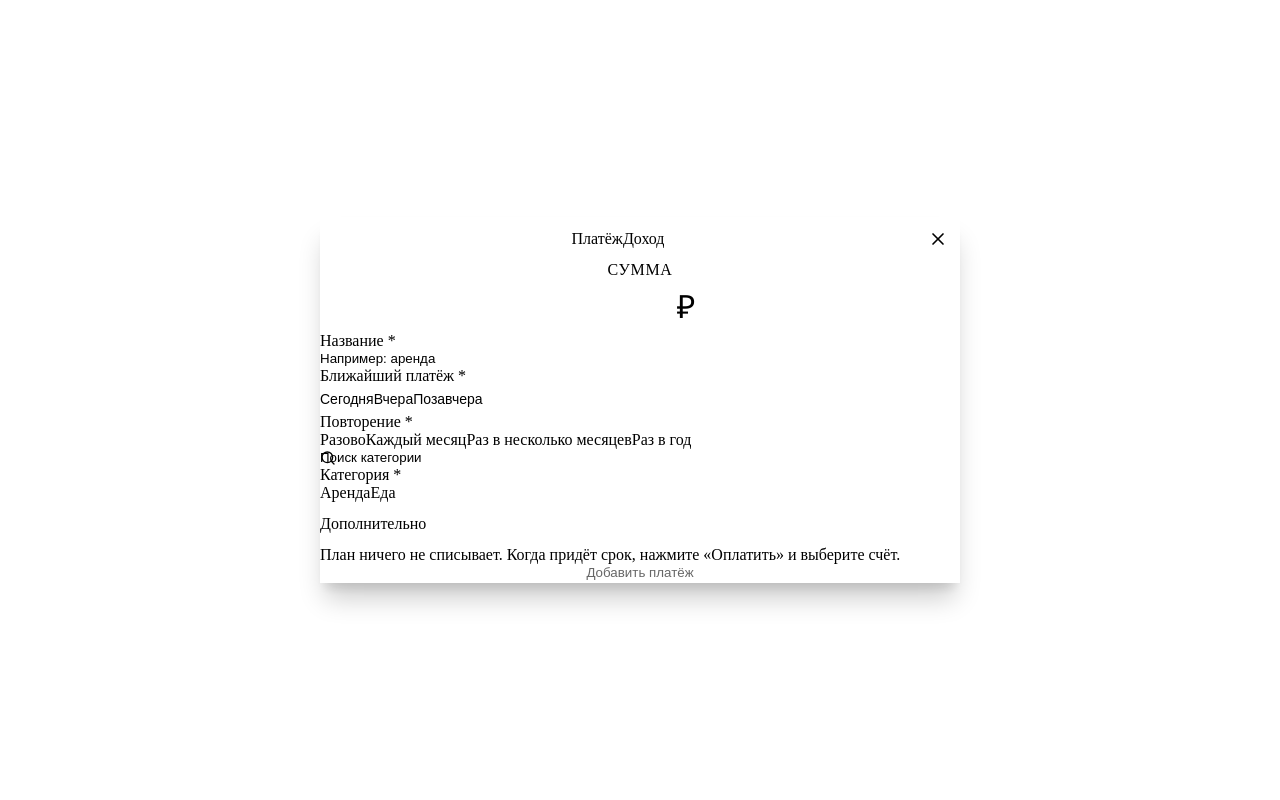
Scenario: PlanCreateDialog › blocks submit on local errors and focuses the first invalid field
Click the radio button with test id "pill-planRecurrence-EVERY_N_MONTHS" at [549, 440], box [466, 431, 632, 449]
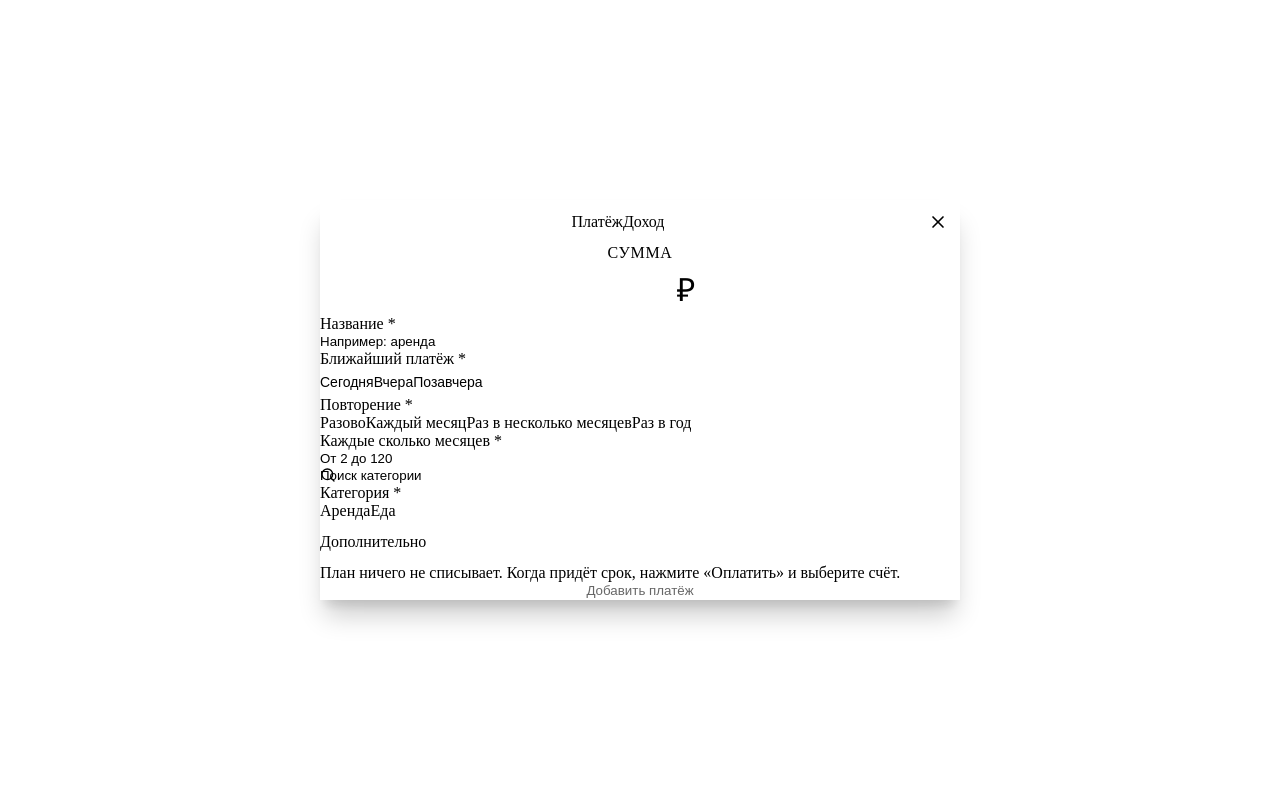
Type "0" into the field with id "operation-amount-input" at [631, 288], box [585, 262, 677, 315]
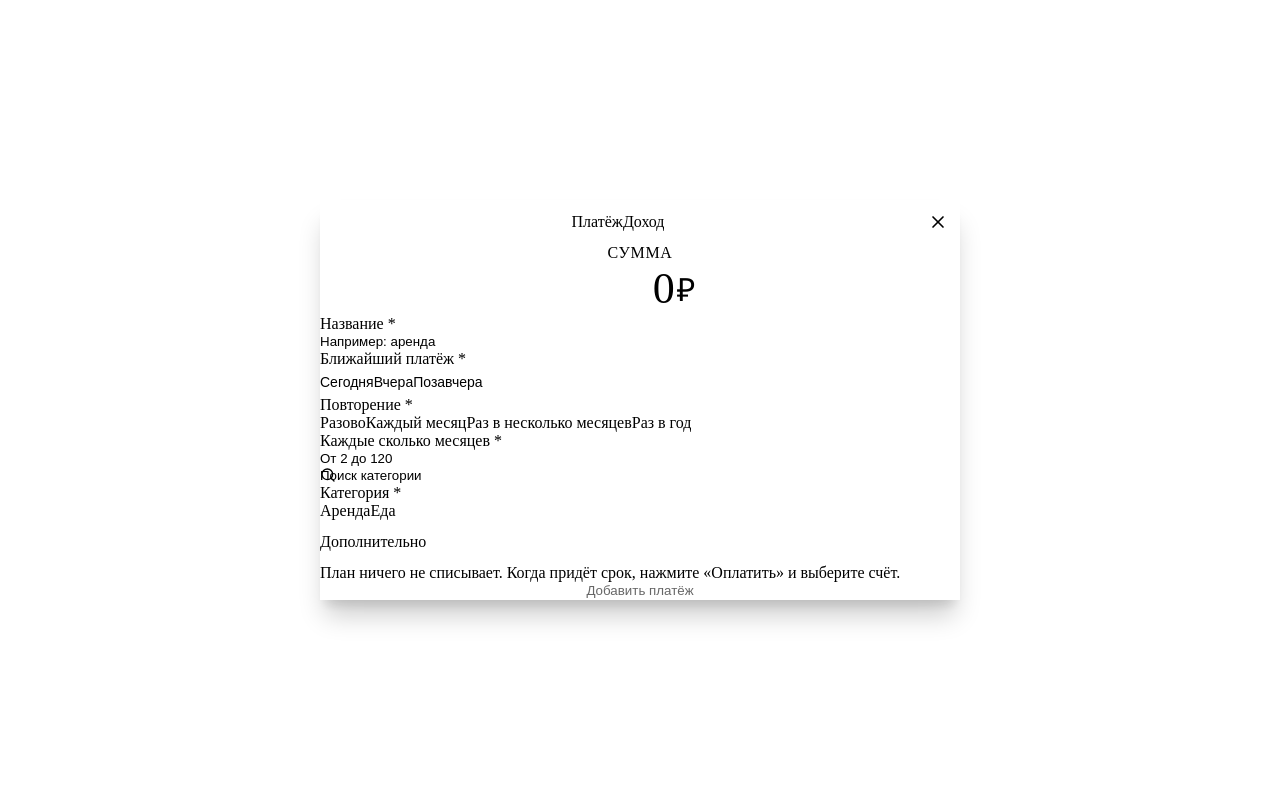
Type "Аренда" into the field labelled "Название *" at [640, 341], box [320, 333, 960, 350]
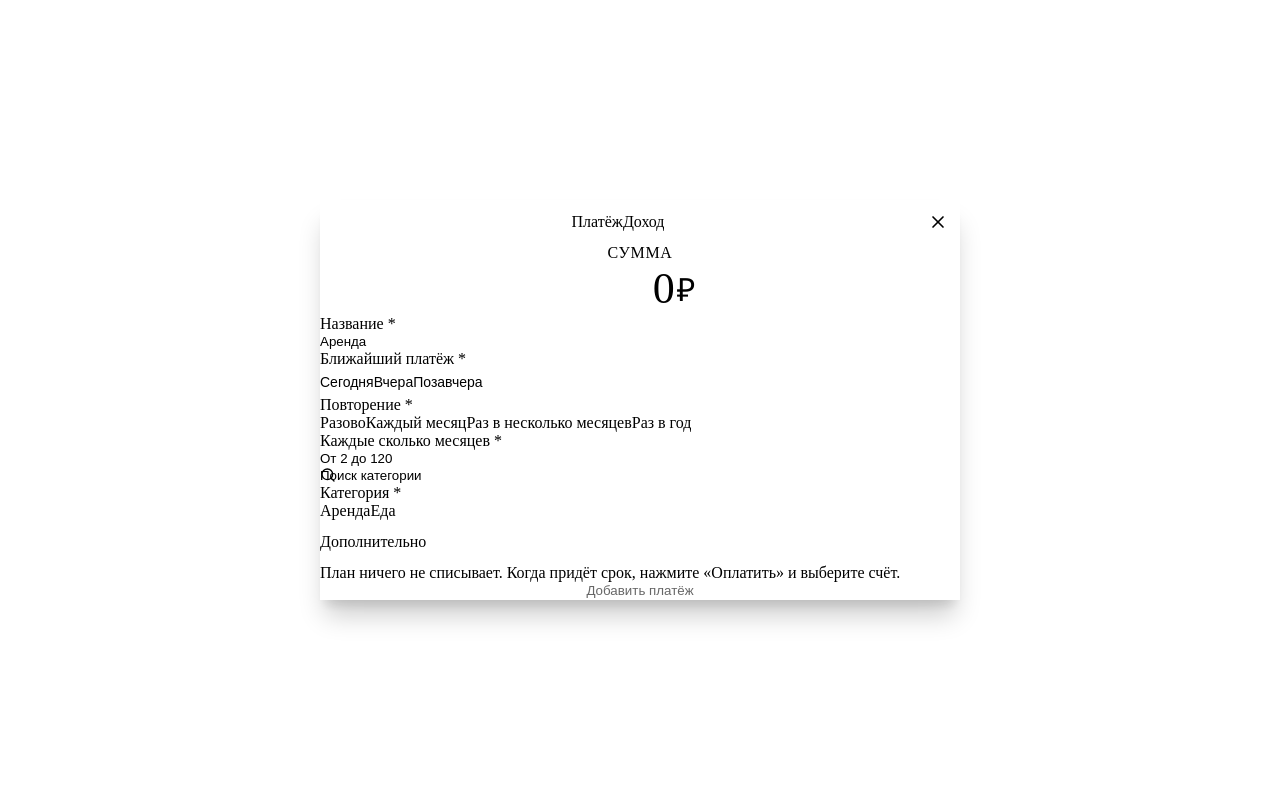
Click the radio button with test id "pill-planCategory-c-rent" at [345, 511], box [320, 502, 370, 520]
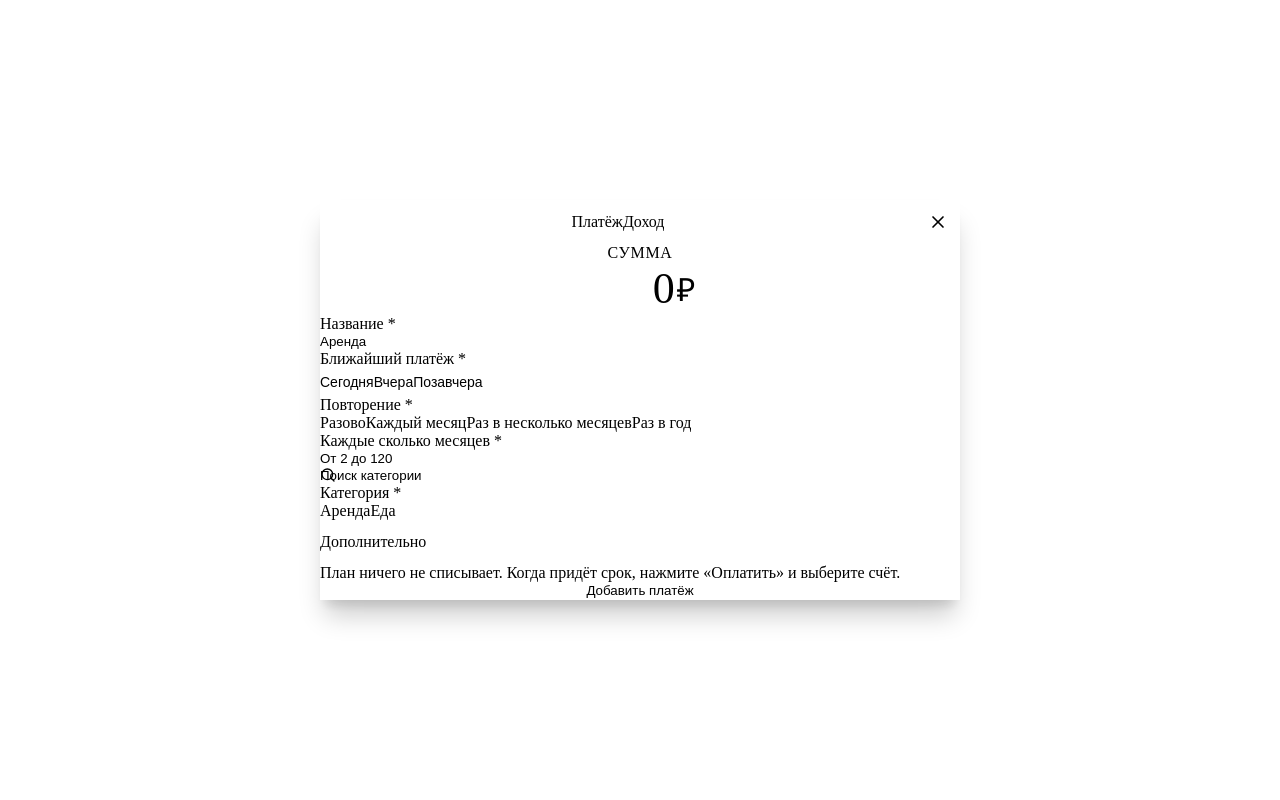
Type "1" into the field labelled "Каждые сколько месяцев *" at [640, 458], box [320, 450, 960, 467]
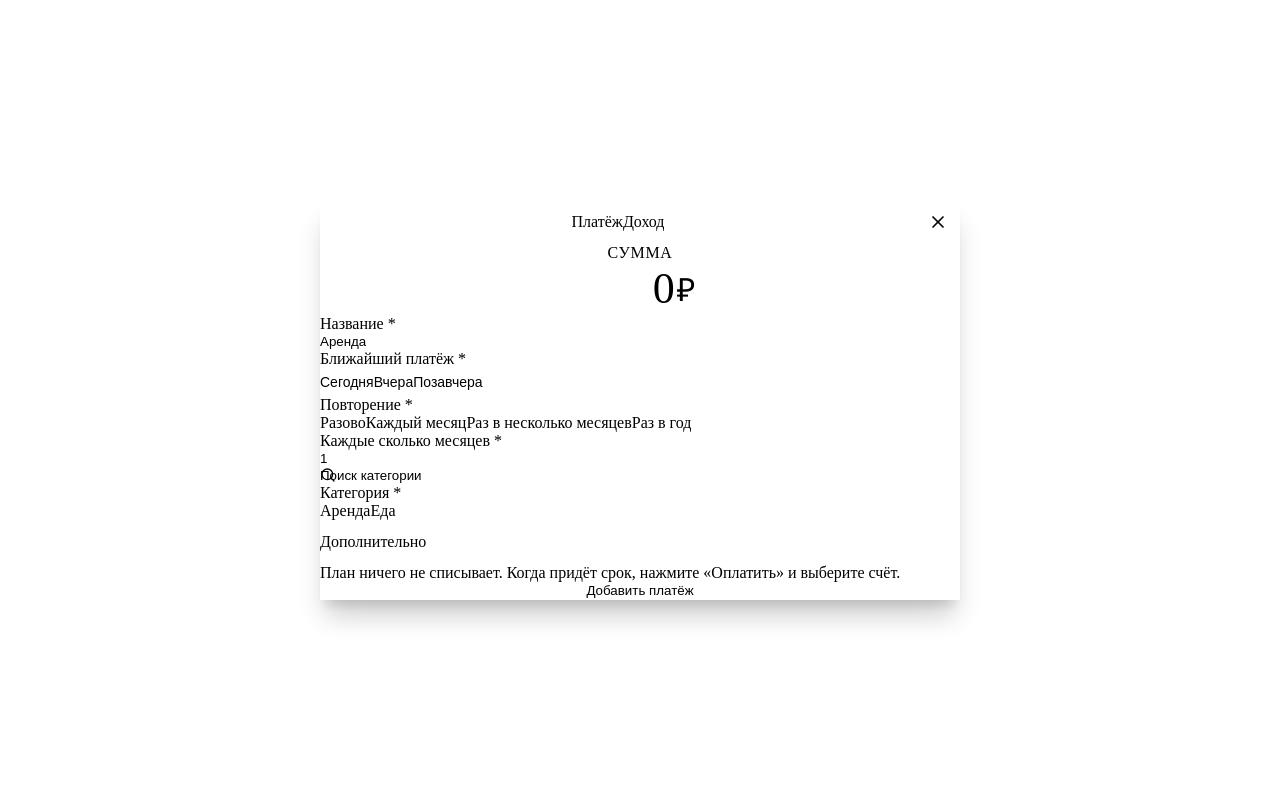
Click the button with test id "plan-submit" at [640, 591], box [320, 582, 960, 600]
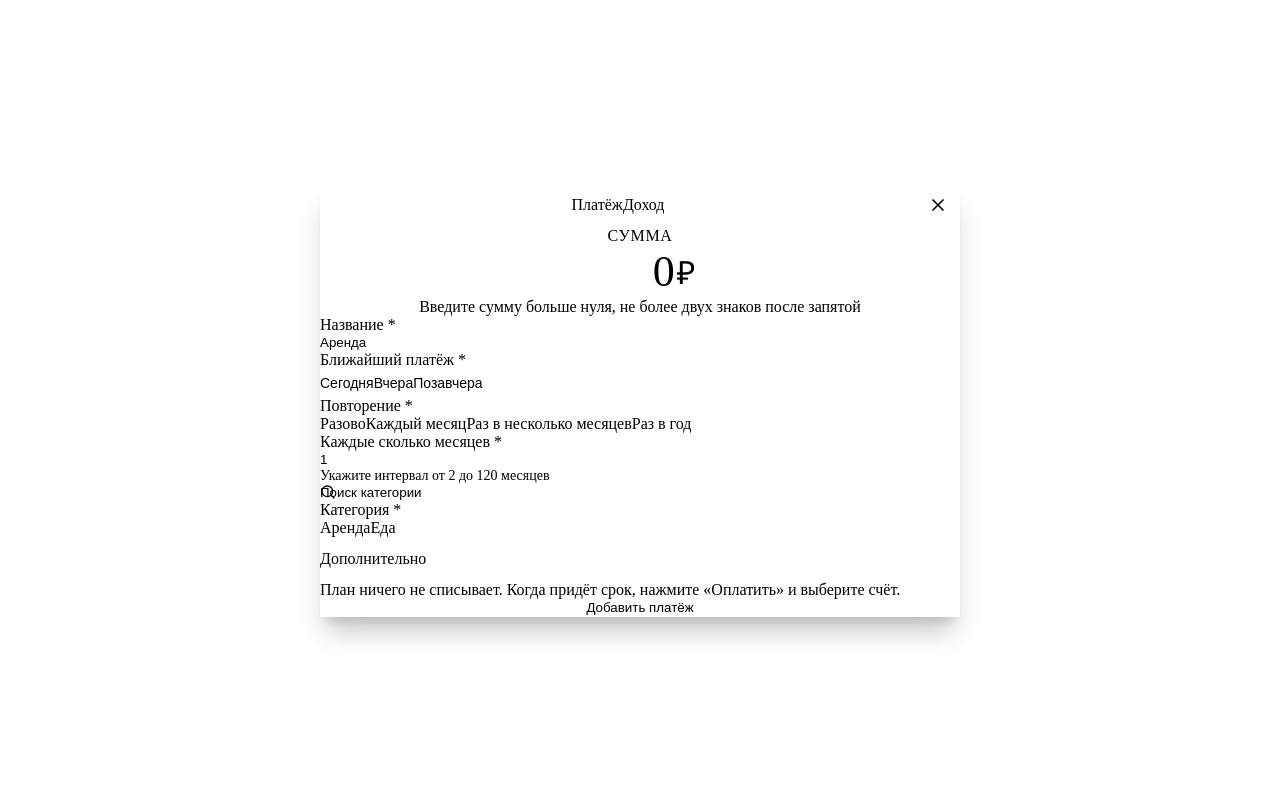
Expected: the text "Введите сумму больше нуля" is shown, [419, 298, 861, 315]
Expected: the text "Укажите интервал от 2 до 120 месяцев" is shown, [320, 468, 550, 483]
